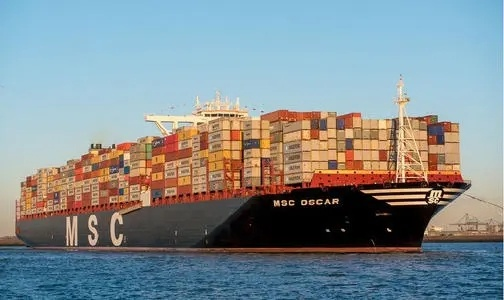Cargoship: (11, 74, 472, 252)
